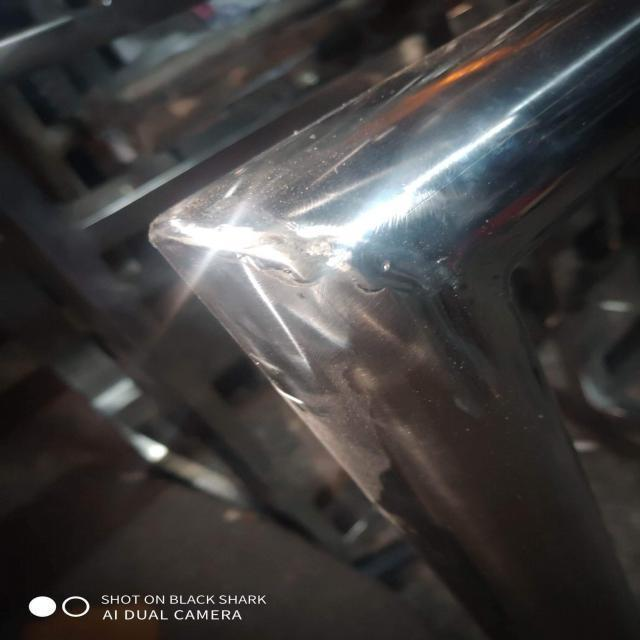defect: (190, 240, 330, 287), (347, 279, 421, 297)
